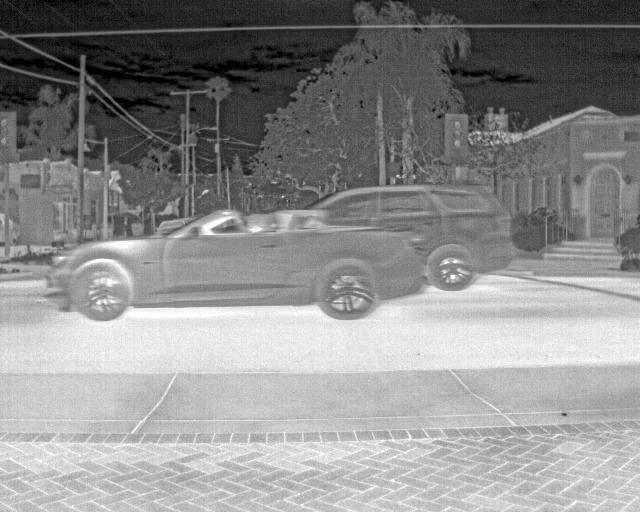car: (42, 209, 424, 321), (426, 182, 514, 291), (316, 184, 425, 226)
